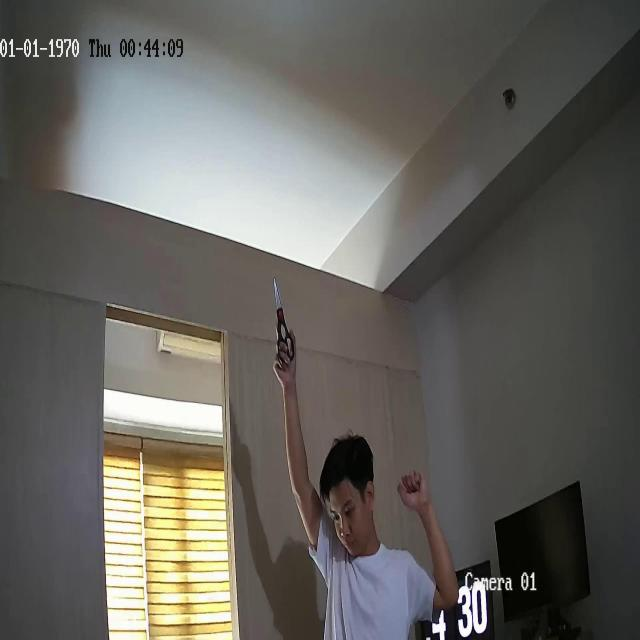scissor: (274, 278, 294, 365)
